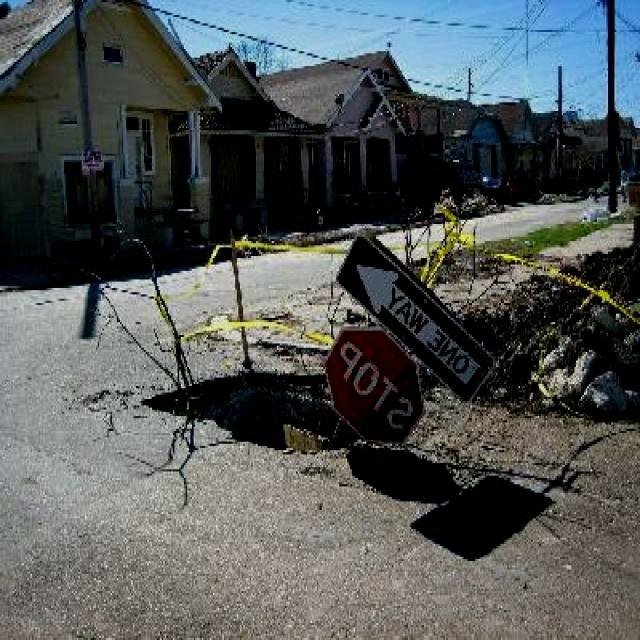Pothole: (138, 358, 370, 457)
